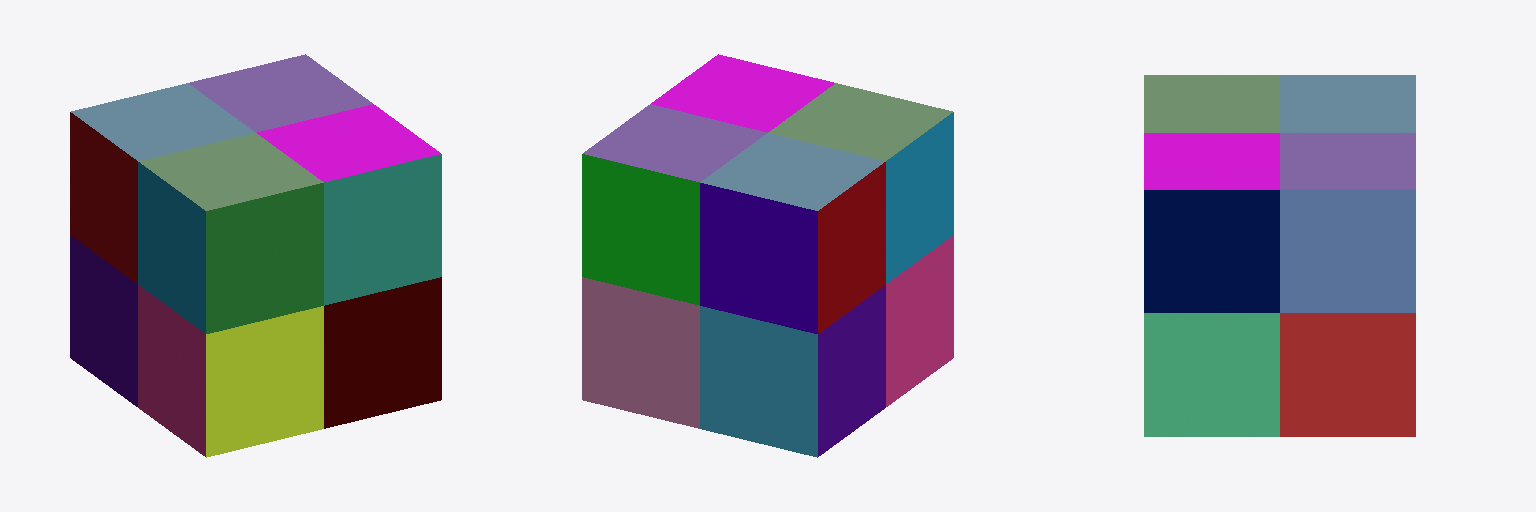
The picture shows the model from 3 angles: view 1: azimuth 30°, elevation 25°; view 2: azimuth 150°, elevation 25°; view 3: azimuth 270°, elevation 25°; orthographic projection.
Size of the model in its own units: 20 by 20 by 20.
Materials: 1 (1 with a texture image).